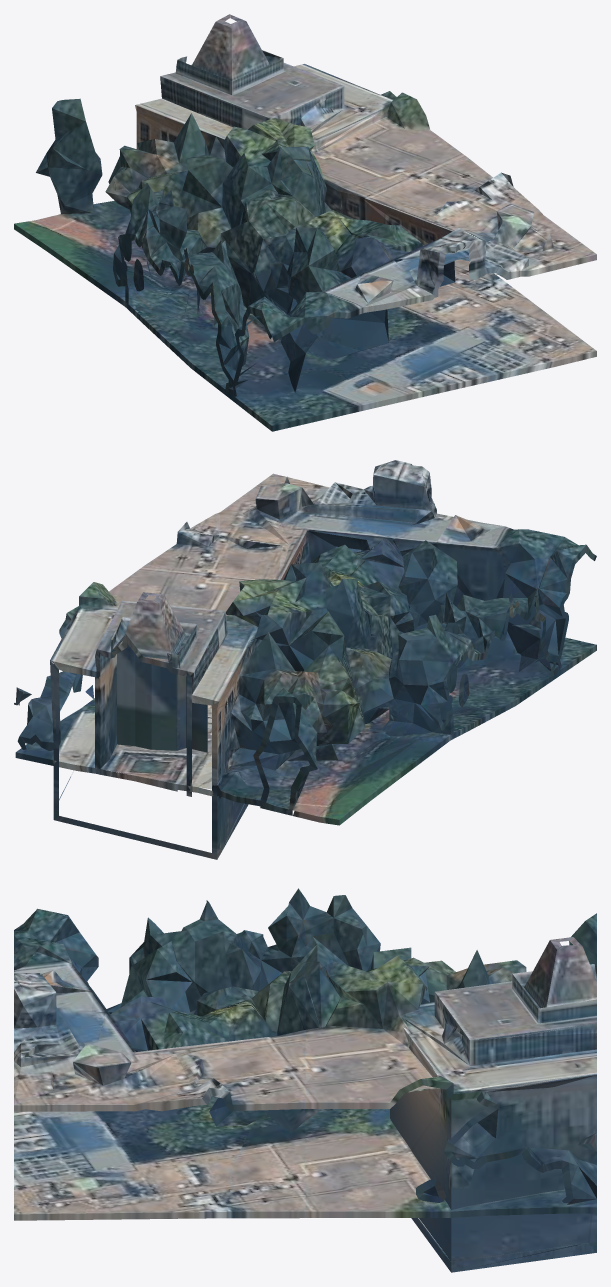
File: chunk_2_-7.glb
3 renders of one model, top to bottom at view 1: azimuth 30°, elevation 25°; view 2: azimuth 150°, elevation 25°; view 3: azimuth 270°, elevation 25°, orthographic. The views are drawn at different scales.
Parts seen in each view (by area): view 1: hero-chunk; view 2: hero-chunk; view 3: hero-chunk.
Part boxes in pixels (bbox=[...]): hero-chunk: bbox=[14, 14, 596, 431]; hero-chunk: bbox=[14, 460, 596, 859]; hero-chunk: bbox=[14, 888, 596, 1272].
Size of the model in its own units: 55.73 by 38.02 by 76.32.
Materials: 2 (2 with a texture image).
